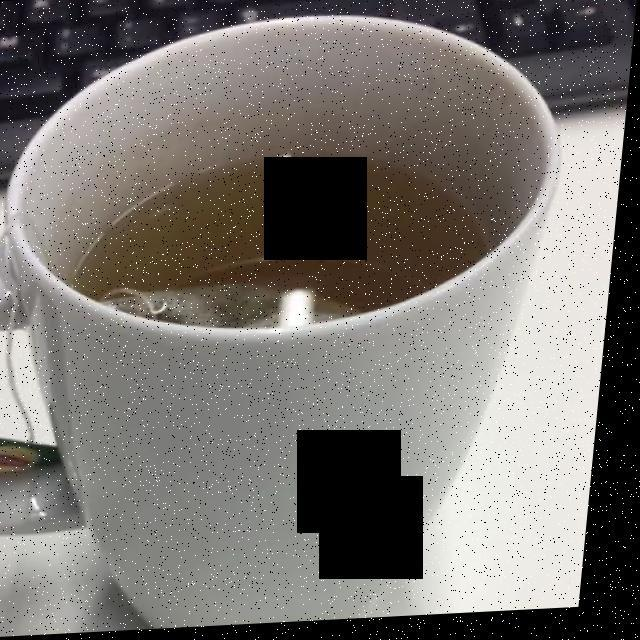drink: (80, 144, 496, 328), (83, 160, 485, 321)
